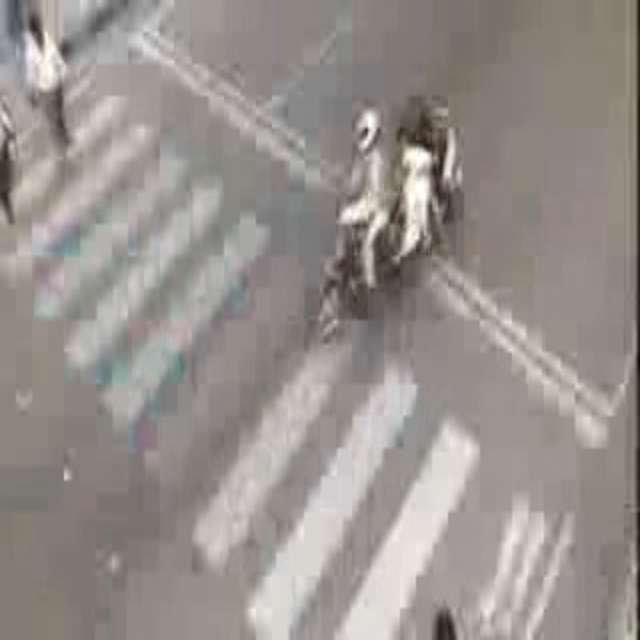acc: (316, 98, 459, 320)
